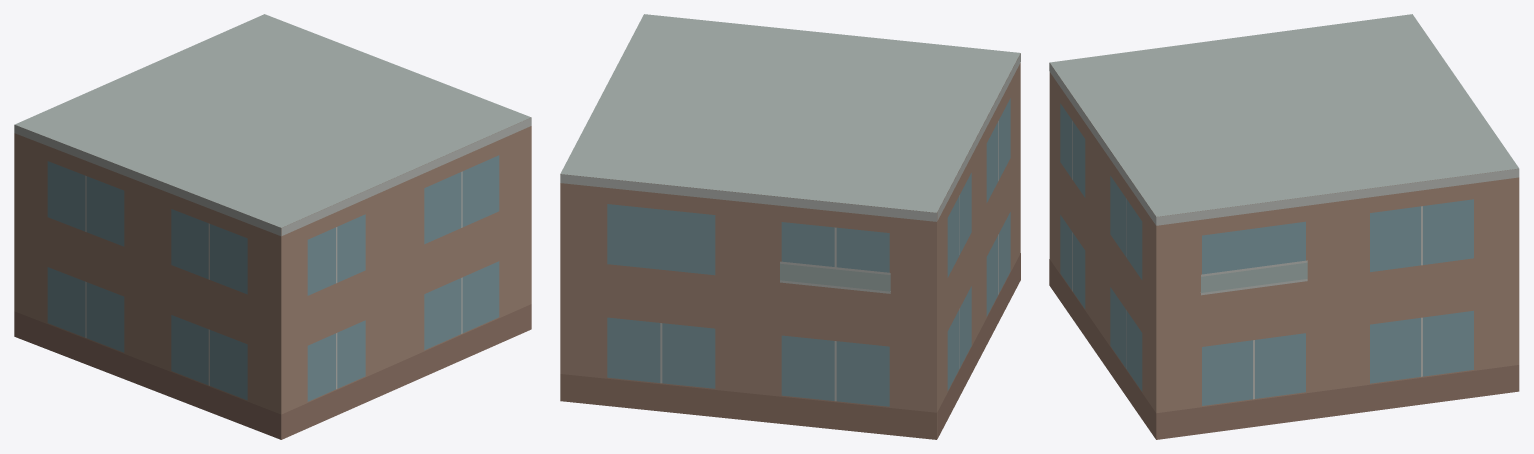
Rendered from survey-upis-32498808.glb.
3 renders of one model, left to right at view 1: azimuth 30°, elevation 25°; view 2: azimuth 150°, elevation 25°; view 3: azimuth 270°, elevation 25°, orthographic. The views are drawn at different scales.
Parts seen in each view (by area): view 1: survey-upis-32498808.tmp; view 2: survey-upis-32498808.tmp; view 3: survey-upis-32498808.tmp.
Boxes of the visible parts, x1,y1,x2,y2 form: survey-upis-32498808.tmp: (14, 14, 531, 439); survey-upis-32498808.tmp: (560, 14, 1020, 439); survey-upis-32498808.tmp: (1049, 14, 1519, 439).
Size of the model in its own units: 11.92 by 6.1 by 11.66.
